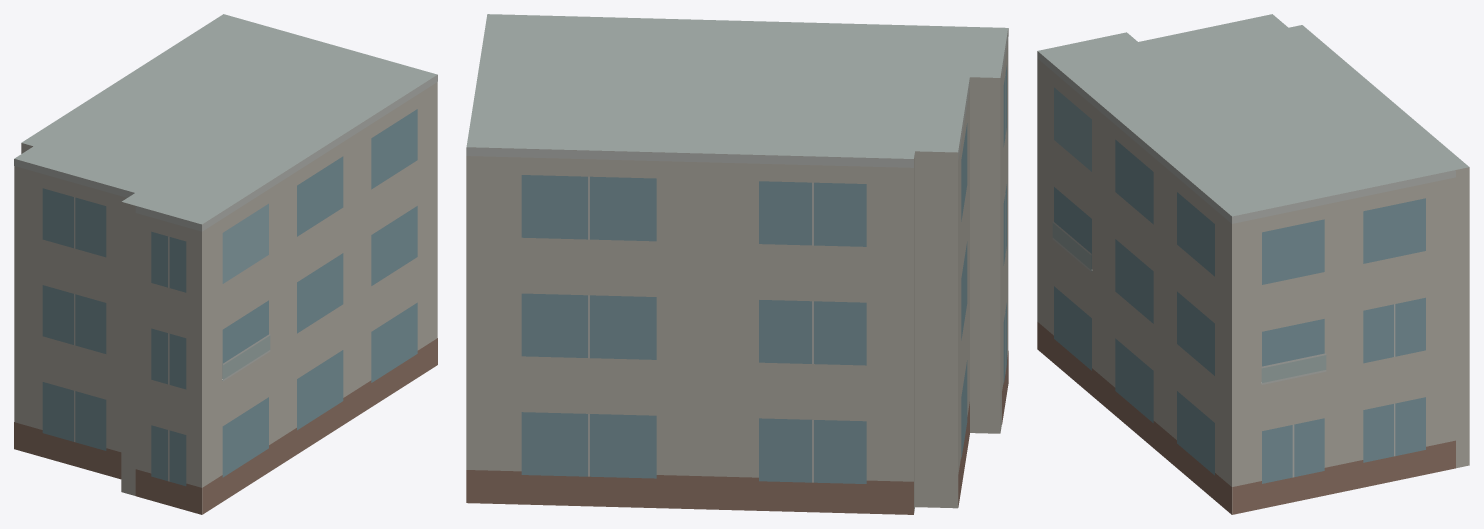
The model's file is survey-upis-32745179.glb.
The picture shows the model from 3 angles, left to right: view 1: azimuth 30°, elevation 25°; view 2: azimuth 150°, elevation 25°; view 3: azimuth 270°, elevation 25°; orthographic projection. The views are drawn at different scales.
Visible parts, largest first — view 1: survey-upis-32745179.tmp; view 2: survey-upis-32745179.tmp; view 3: survey-upis-32745179.tmp.
Part boxes in pixels (x1,y1,x2,y2): survey-upis-32745179.tmp: (14, 14, 437, 514); survey-upis-32745179.tmp: (466, 14, 1008, 514); survey-upis-32745179.tmp: (1037, 14, 1469, 514).
Size of the model in its own units: 14.28 by 9.8 by 12.88.
